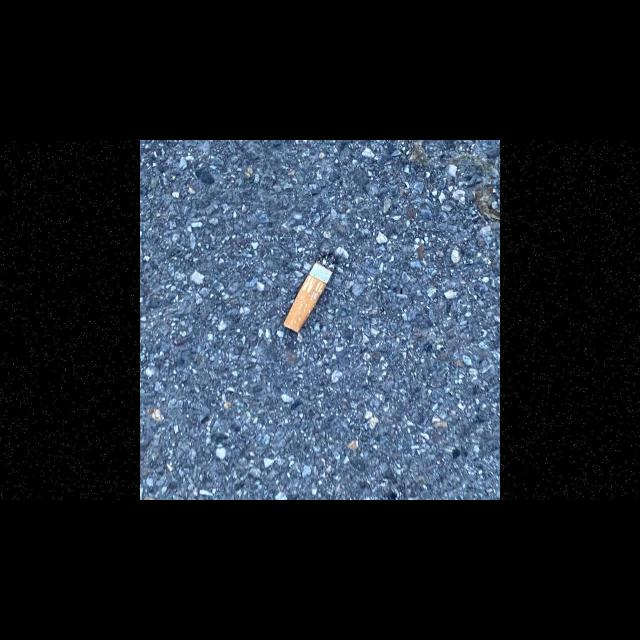cigarette: (283, 252, 336, 332)
